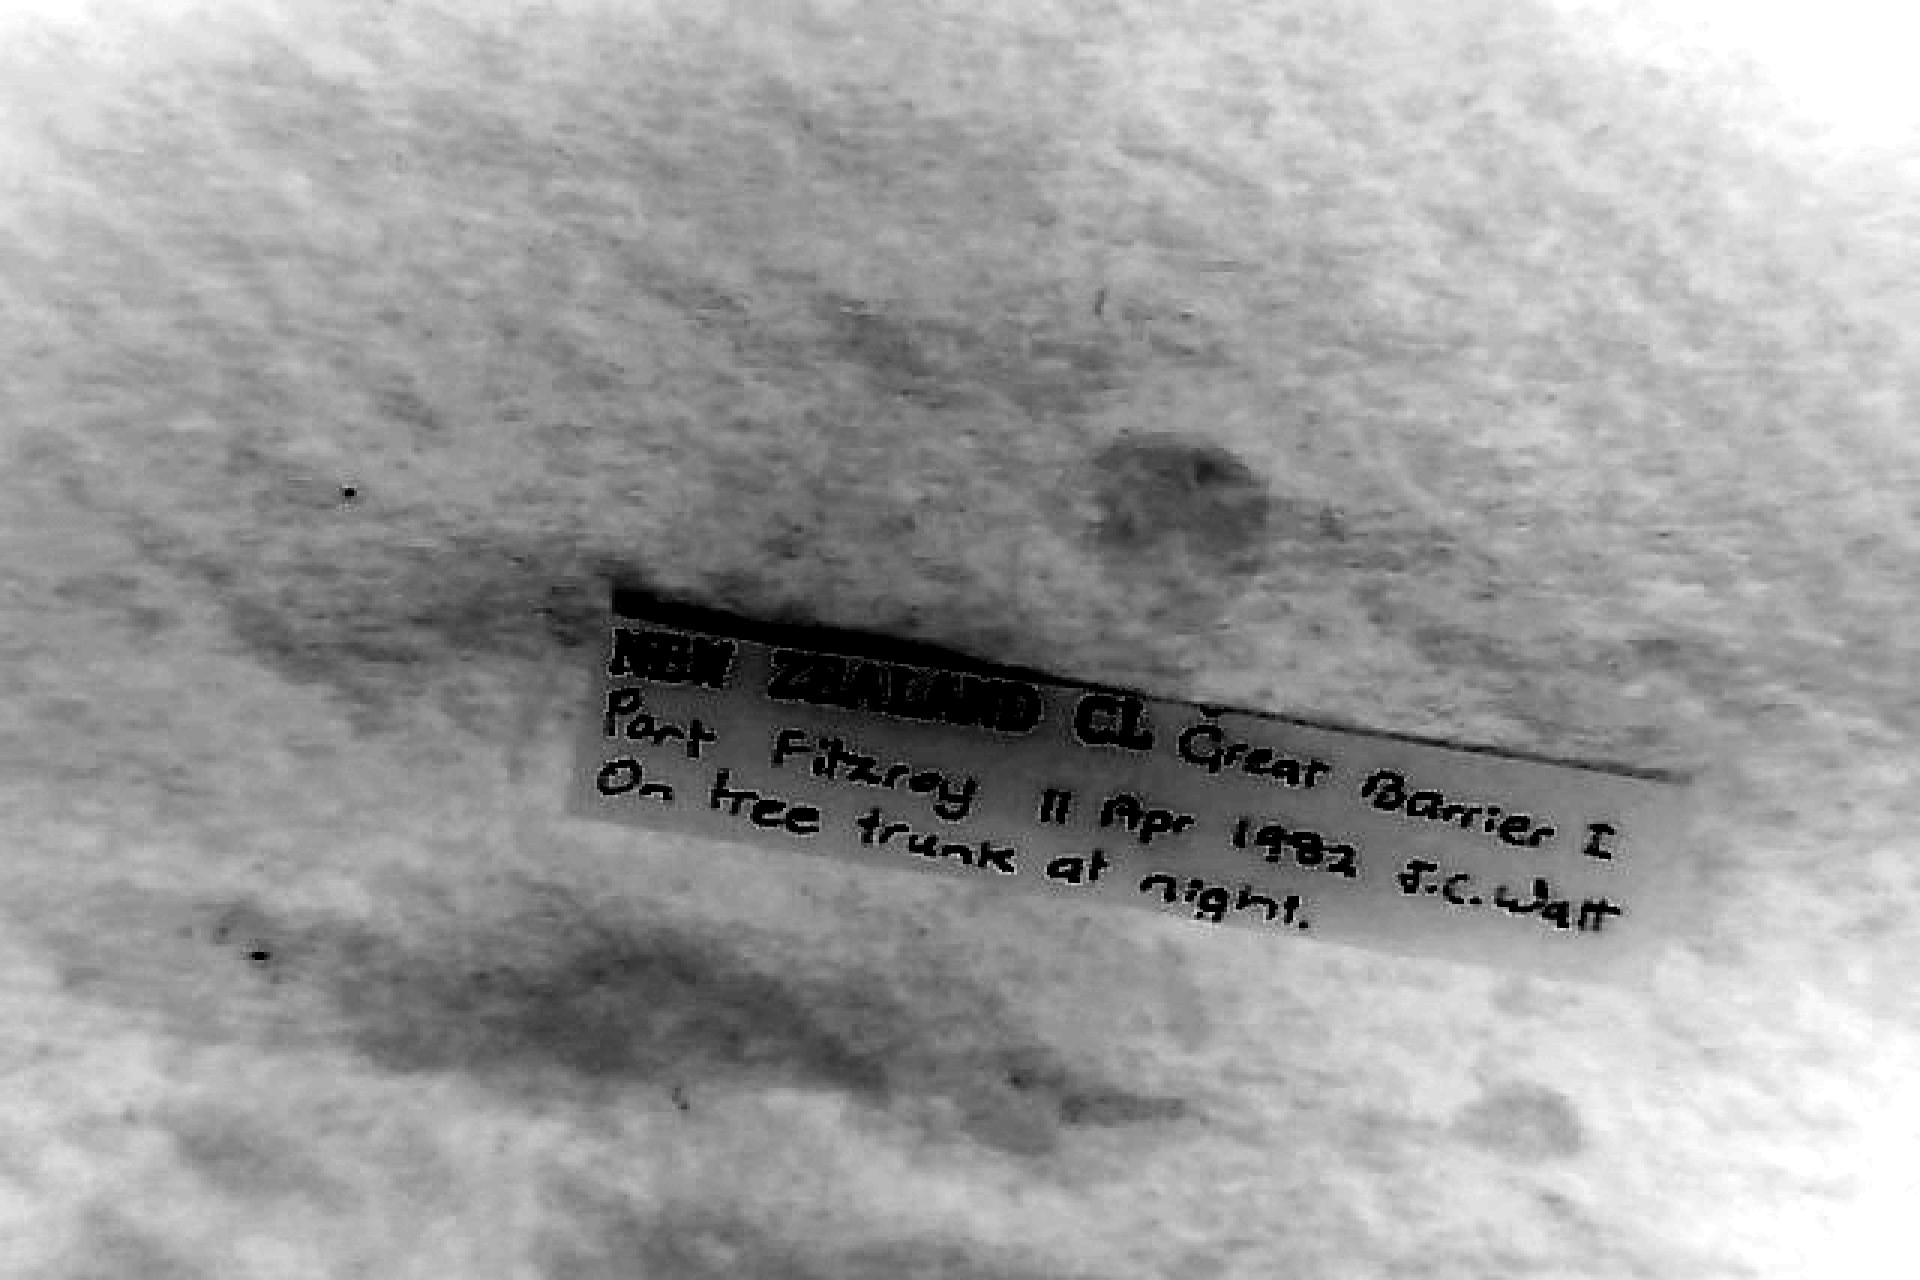mixed_label: (578, 617, 1684, 963)
